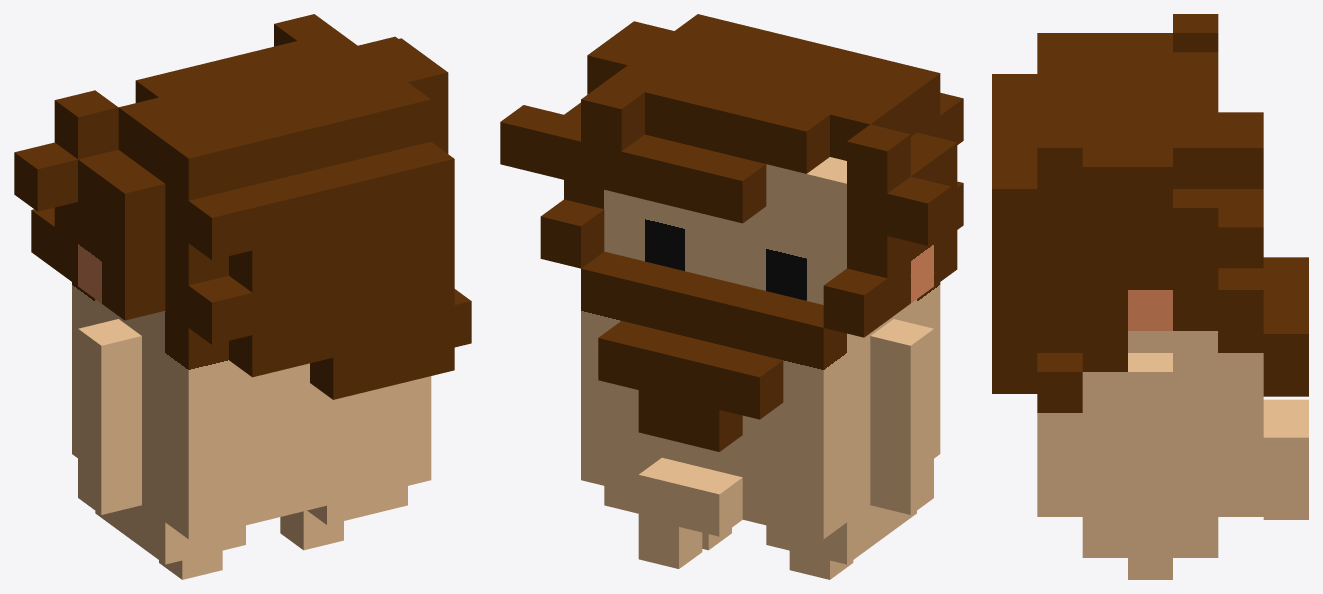
The model's file is chr_naked2.dae.
3 renders of one model, left to right at view 1: azimuth 30°, elevation 25°; view 2: azimuth 150°, elevation 25°; view 3: azimuth 270°, elevation 25°, orthographic. The views are drawn at different scales.
Visible parts, largest first — view 1: chr_naked2; view 2: chr_naked2; view 3: chr_naked2.
Part boxes in pixels (box(x1,y1,x2,y2)): chr_naked2: box(14, 14, 471, 579); chr_naked2: box(500, 14, 963, 579); chr_naked2: box(992, 14, 1308, 579).
Size of the model in its own units: 1 by 0.7 by 1.1.
